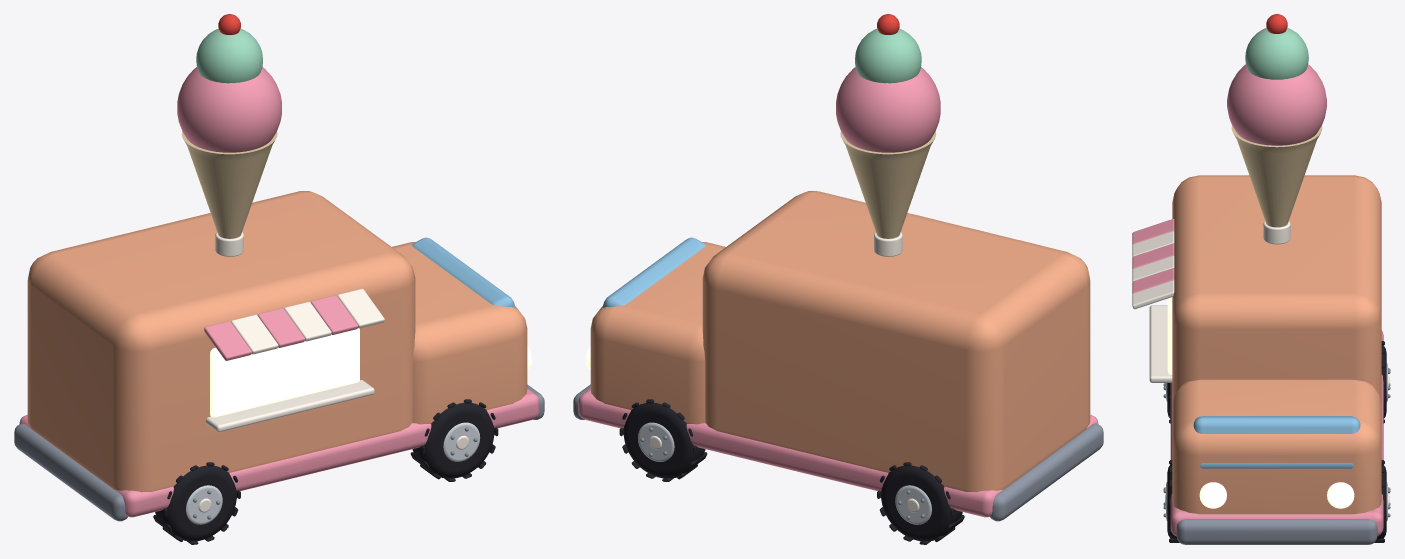
File: icecream_van.glb
3 views of the same model, side by side, from view 1: azimuth 30°, elevation 25°; view 2: azimuth 150°, elevation 25°; view 3: azimuth 270°, elevation 25° (orthographic). The views are drawn at different scales.
Visible parts, largest first — view 1: icecream_van; view 2: icecream_van; view 3: icecream_van.
Boxes of the visible parts, x1=… form: icecream_van: x1=14, y1=14, x2=544, y2=544; icecream_van: x1=573, y1=14, x2=1103, y2=544; icecream_van: x1=1132, y1=14, x2=1390, y2=544.
Bounding box in the file's own units: 5.2 × 5.37 × 2.84.
Materials: 1 (1 with a texture image).
